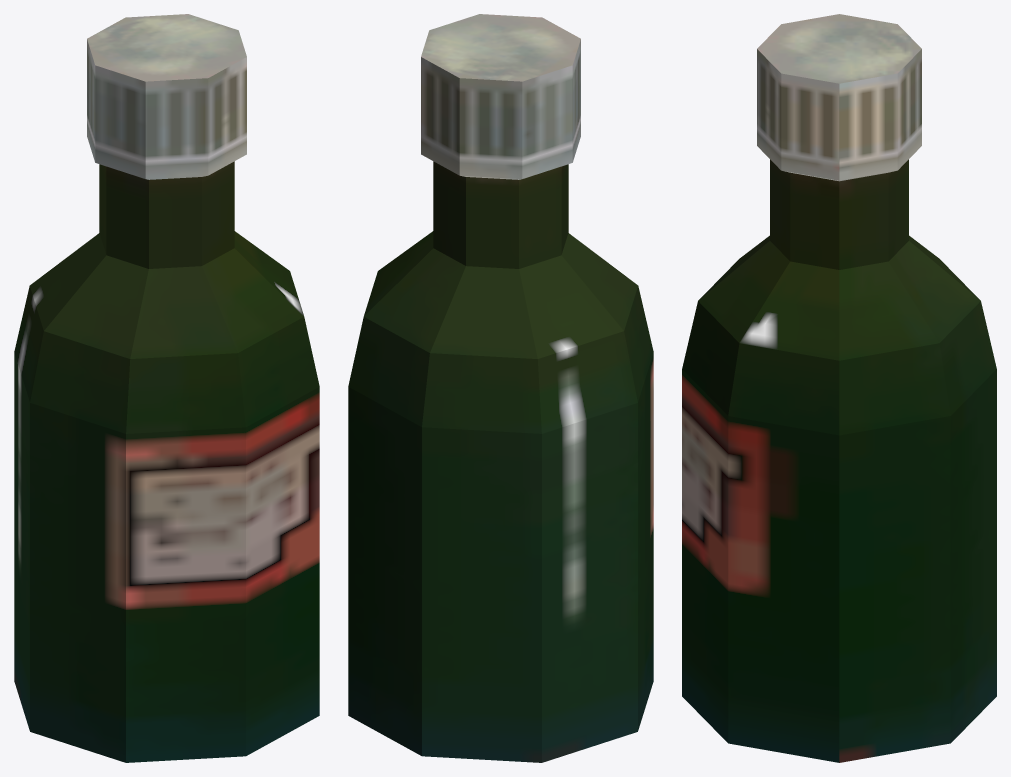
Rendered from jar_small_5.fbx.
The picture shows the model from 3 angles, left to right: view 1: azimuth 30°, elevation 25°; view 2: azimuth 150°, elevation 25°; view 3: azimuth 270°, elevation 25°; orthographic projection.
Visible parts, largest first — view 1: mesh_0; view 2: mesh_0; view 3: mesh_0.
Part boxes in pixels (box(x1,y1,x2,y2)): mesh_0: box(14, 14, 319, 762); mesh_0: box(348, 14, 653, 762); mesh_0: box(682, 14, 996, 762).
Bounding box in the file's own units: 4.4 × 10 × 4.4.
1 material, 1 textured.
